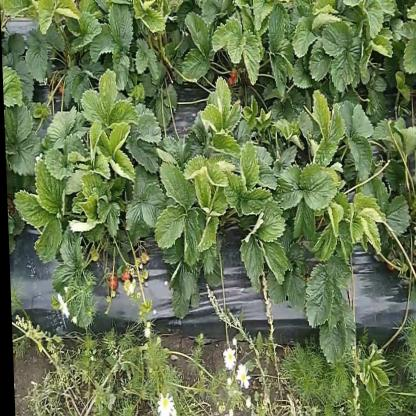ripe: (105, 270, 119, 294), (228, 67, 238, 85)
unripe: (118, 265, 129, 283)
